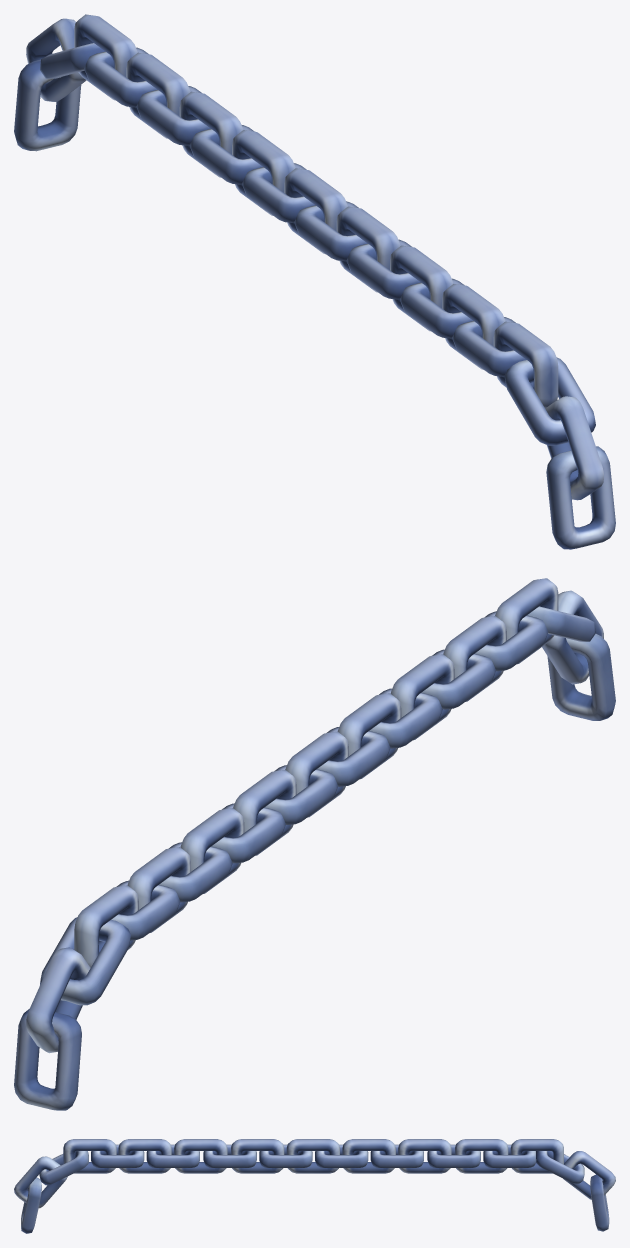
Rendered from chain_2.fbx.
3 views of the same model, one above another, from view 1: azimuth 30°, elevation 25°; view 2: azimuth 150°, elevation 25°; view 3: azimuth 270°, elevation 25° (orthographic). The views are drawn at different scales.
Parts seen in each view (by area): view 1: chain_2; view 2: chain_2; view 3: chain_2.
Boxes of the visible parts, x1=… form: chain_2: x1=14, y1=14, x2=615, y2=549; chain_2: x1=14, y1=578, x2=615, y2=1110; chain_2: x1=14, y1=1139, x2=615, y2=1233.
Bounding box in the file's own units: 0.1704 × 0.4652 × 2.85.
